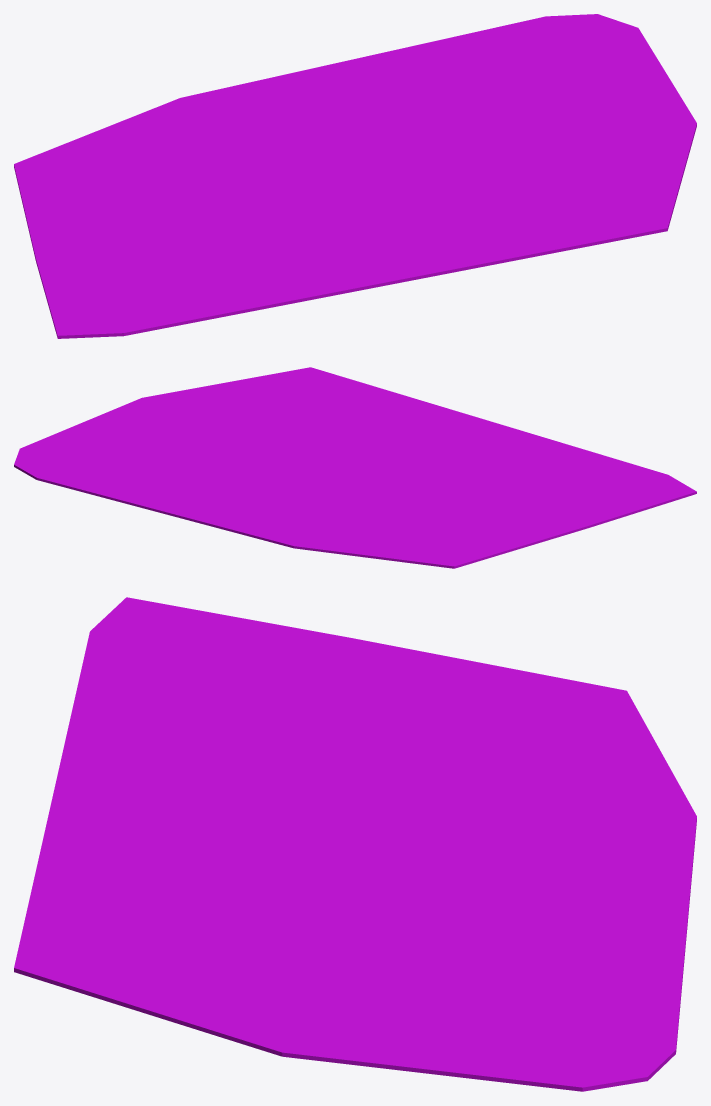
Rendered from Hole_9_new_floor_1.glb.
3 views of the same model, one above another, from view 1: azimuth 30°, elevation 25°; view 2: azimuth 150°, elevation 25°; view 3: azimuth 270°, elevation 25° (orthographic). The views are drawn at different scales.
Visible parts, largest first — view 1: Hole 9 floor.001; view 2: Hole 9 floor.001; view 3: Hole 9 floor.001.
Boxes of the visible parts, <box> form: Hole 9 floor.001: <box>14,14,696,338</box>; Hole 9 floor.001: <box>14,367,696,568</box>; Hole 9 floor.001: <box>14,597,696,1091</box>.
Size of the model in its own units: 36.83 by 0.1455 by 21.68.
